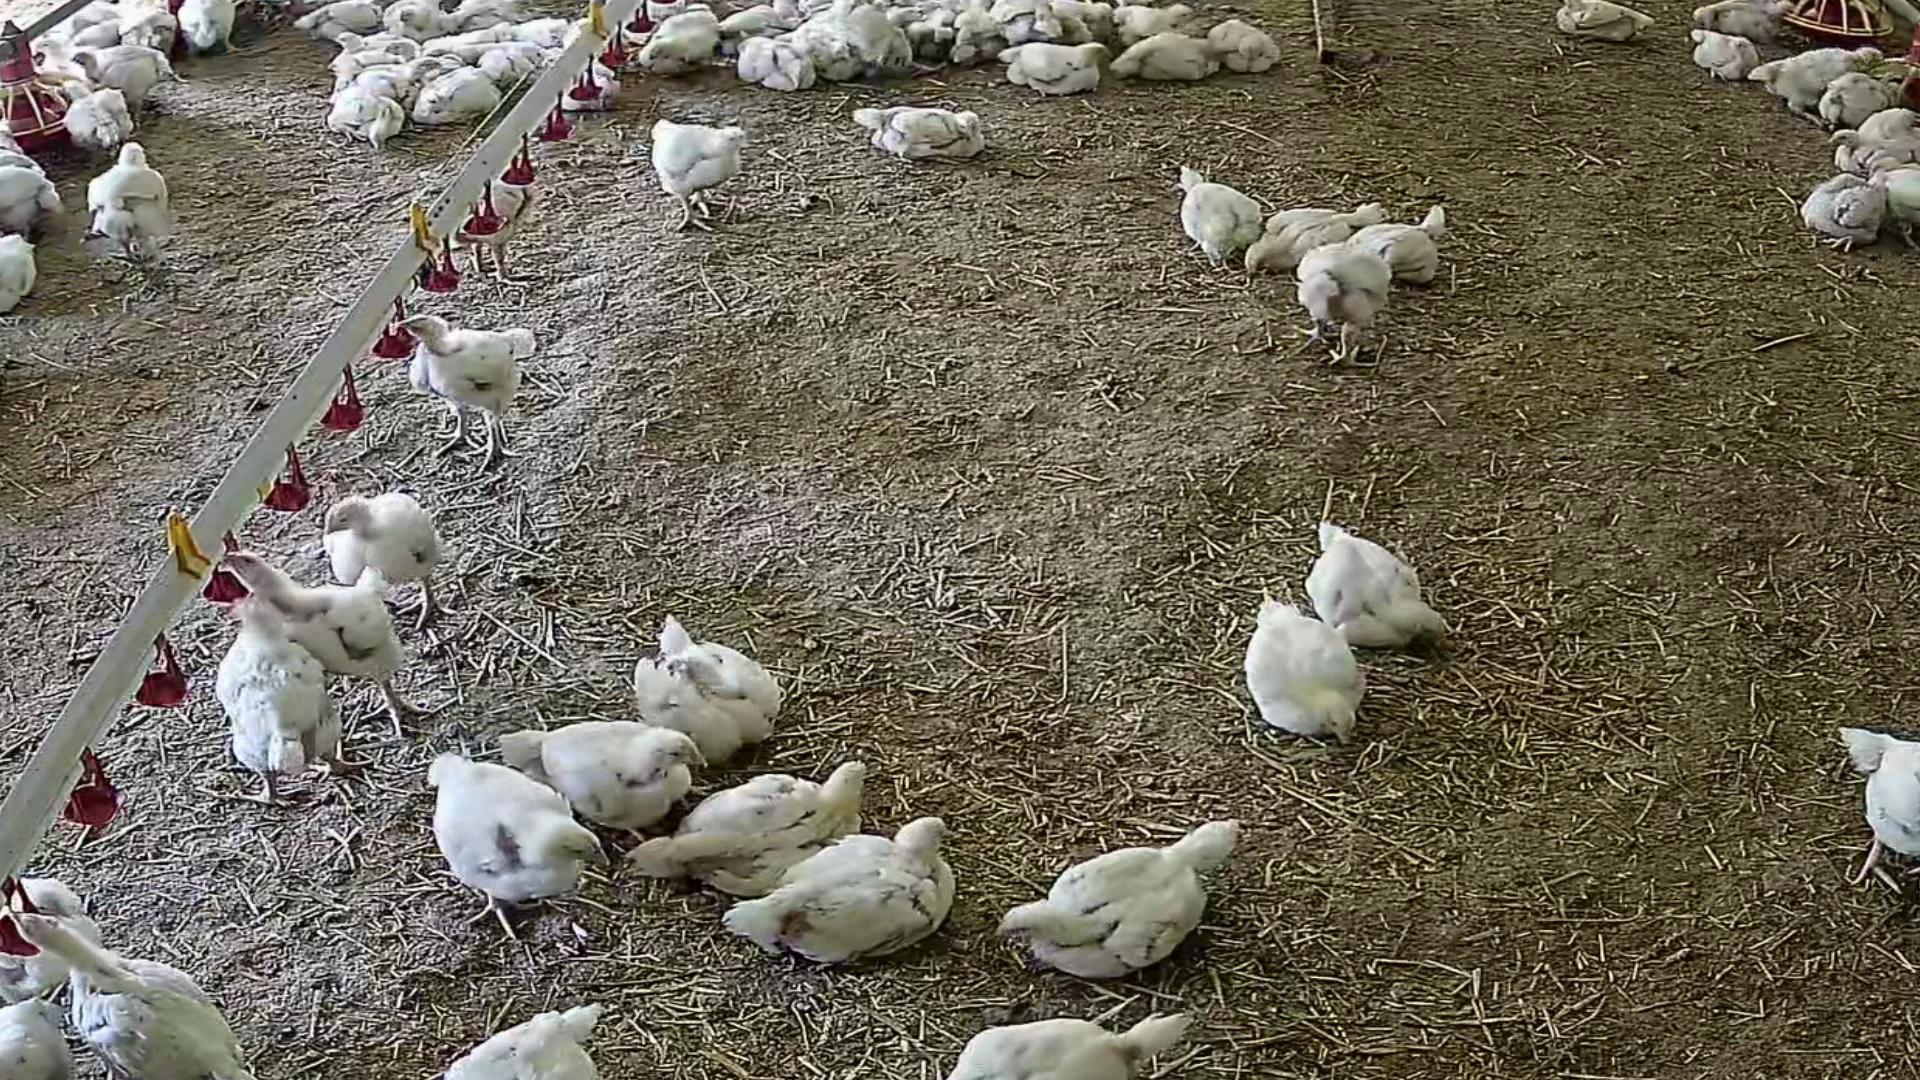poussin: (980, 803, 1273, 978), (17, 902, 272, 1080), (210, 551, 442, 721), (417, 748, 621, 915), (742, 810, 955, 953), (640, 756, 880, 876), (509, 705, 712, 837), (398, 311, 546, 473), (225, 588, 332, 811), (316, 485, 484, 626), (942, 998, 1211, 1080), (642, 600, 781, 756), (1303, 526, 1455, 662), (1245, 585, 1350, 742), (430, 992, 617, 1080), (1283, 232, 1400, 367), (1840, 729, 1920, 922), (0, 881, 166, 969), (655, 115, 767, 227), (1749, 42, 1888, 129), (1236, 199, 1393, 266), (84, 142, 186, 243), (1327, 203, 1452, 280), (1176, 166, 1279, 257), (0, 973, 73, 1079), (47, 76, 152, 149), (853, 102, 992, 153), (74, 46, 167, 119), (1820, 111, 1920, 171), (1797, 174, 1888, 240), (993, 41, 1105, 92), (1113, 37, 1229, 84), (642, 11, 720, 78), (836, 11, 909, 71), (0, 173, 62, 243), (1557, 0, 1658, 42), (1695, 4, 1799, 44), (1197, 21, 1287, 66), (426, 69, 504, 120), (0, 229, 51, 307), (1824, 73, 1909, 117), (1113, 0, 1192, 47), (709, 5, 782, 57), (1884, 169, 1920, 261), (1696, 26, 1756, 80), (738, 46, 810, 91), (554, 61, 625, 105), (462, 44, 550, 79), (782, 32, 857, 73), (182, 0, 237, 55), (364, 54, 438, 95), (70, 4, 135, 49), (1058, 1, 1118, 49), (345, 94, 402, 144), (952, 7, 997, 65), (444, 4, 524, 36), (119, 13, 183, 51), (1000, 0, 1056, 42), (314, 0, 394, 29), (431, 20, 520, 45), (489, 12, 566, 40), (401, 0, 447, 32), (385, 38, 443, 62), (34, 38, 79, 62), (335, 36, 368, 59)
